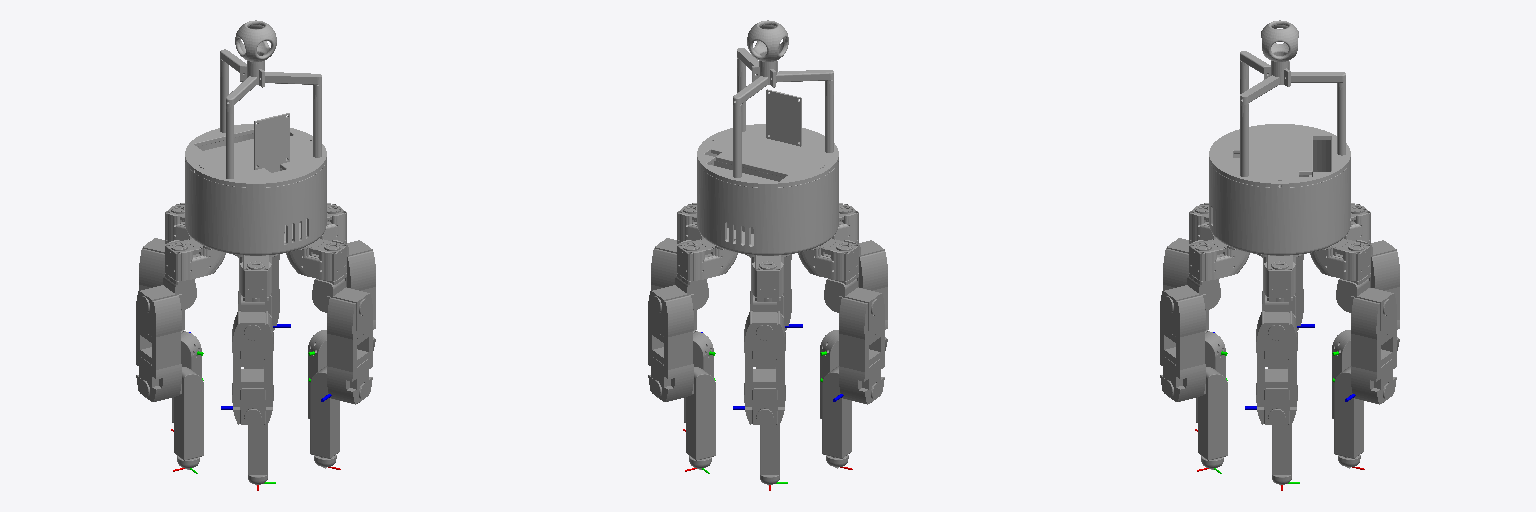
--- Render facts (derived) ---
Views: 3 orthographic renders of the robot side by side, from view 1: azimuth 30°, elevation 25°; view 2: azimuth 150°, elevation 25°; view 3: azimuth 270°, elevation 25°.
Robot: hexa_leg_pod — 32 links, 31 joints (18 continuous, 13 fixed); root link base_link; default pose: every joint at zero.
Visible links, largest first — view 1: body_link, limb5_link4, limb3_link4, limb4_link4, limb3_link6, limb5_link6, limb0_link4, limb2_link4, limb4_link6, motor4, motor3, motor5 (+5 smaller); view 2: body_link, limb3_link4, limb1_link4, limb2_link4, limb1_link6, limb3_link6, limb4_link4, limb0_link4, limb2_link6, motor2, motor1, motor3 (+5 smaller); view 3: body_link, limb1_link4, limb5_link4, limb0_link4, limb5_link6, limb1_link6, limb2_link4, limb4_link4, limb0_link6, motor0, motor5, motor1 (+5 smaller).
Link boxes in pixels (bbox=[...]): body_link: bbox=[167, 20, 344, 295]; limb5_link4: bbox=[327, 287, 372, 404]; limb3_link4: bbox=[136, 285, 181, 401]; limb4_link4: bbox=[232, 310, 273, 424]; limb3_link6: bbox=[174, 367, 203, 468]; limb5_link6: bbox=[308, 366, 339, 466]; limb0_link4: bbox=[345, 240, 375, 350]; limb2_link4: bbox=[139, 238, 184, 332]; limb4_link6: bbox=[221, 406, 267, 484]; motor4: bbox=[243, 255, 268, 301]; motor3: bbox=[165, 238, 202, 284]; motor5: bbox=[309, 238, 346, 284]; body_link: bbox=[679, 20, 856, 295]; limb3_link4: bbox=[839, 287, 884, 404]; limb1_link4: bbox=[648, 285, 693, 401]; limb2_link4: bbox=[744, 310, 785, 424]; limb1_link6: bbox=[686, 367, 715, 468]; limb3_link6: bbox=[820, 366, 851, 466]; limb4_link4: bbox=[857, 240, 887, 350]; limb0_link4: bbox=[651, 238, 696, 332]; limb2_link6: bbox=[733, 406, 779, 484]; motor2: bbox=[755, 255, 780, 301]; motor1: bbox=[677, 238, 714, 284]; motor3: bbox=[821, 238, 858, 284]; body_link: bbox=[1191, 20, 1368, 295]; limb1_link4: bbox=[1351, 288, 1396, 404]; limb5_link4: bbox=[1160, 285, 1205, 401]; limb0_link4: bbox=[1256, 310, 1297, 424]; limb5_link6: bbox=[1198, 367, 1227, 468]; limb1_link6: bbox=[1332, 366, 1363, 466]; limb2_link4: bbox=[1369, 240, 1399, 350]; limb4_link4: bbox=[1163, 238, 1208, 332]; limb0_link6: bbox=[1245, 406, 1291, 484]; motor0: bbox=[1267, 255, 1292, 301]; motor5: bbox=[1189, 238, 1226, 284]; motor1: bbox=[1333, 238, 1370, 284].
Bounding box of the posed robot: 0.287 × 0.2713 × 0.5317 m (x, y, z).
Meshes: 5 distinct files referenced, 25 mesh visuals loaded (5 binary STL).

The robot description file, URDF, robot "hexa_leg_pod":
<?xml version="1.0" ?>
<!-- =================================================================================== -->
<!-- |    This document was autogenerated by xacro from hexa_leg.xacro                 | -->
<!-- |    EDITING THIS FILE BY HAND IS NOT RECOMMENDED                                 | -->
<!-- =================================================================================== -->
<robot name="hexa_leg_pod">
  <material name="silver_default">
    <color rgba="0.700 0.700 0.700 1.000"/>
  </material>
  <material name="steel_satin">
    <color rgba="0.6274509803921569 0.6274509803921569 0.6274509803921569 1.0"/>
  </material>
  <!--bodyの半径[m]-->
  <joint name="body_joint" type="fixed">
    <parent link="base_link"/>
    <child link="body_link"/>
  </joint>
  <link name="base_link"/>
  <!--baselink設定-->
  <link name="body_link">
    <!--body設定-->
    <inertial>
      <origin rpy="0 0 0" xyz="0 0 0"/>
      <mass value="0.870"/>
      <inertia ixx="0.1" ixy="0.0" ixz="0.0" iyy="0.1" iyz="0.0" izz="0.1"/>
    </inertial>
    <visual>
      <origin rpy="0 0 0" xyz="0 0 0"/>
      <geometry>
        <mesh filename="package://dual_leg_controller/model/meshes/base_link.stl" scale="0.001 0.001 0.001"/>
      </geometry>
      <material name="gray">
        <color rgba="0.7 0.7 0.7 1.0"/>
      </material>
    </visual>
    <collision>
      <origin rpy="0 0 0" xyz="0 0 0"/>
      <geometry>
        <mesh filename="package://dual_leg_controller/model/meshes/base_link.stl" scale="0.001 0.001 0.001"/>
      </geometry>
    </collision>
  </link>
  <!-- モーターの設定 -->
  <link name="motor0">
    <!--  物理シミュレーションのための質量特性を定義 -->
    <inertial>
      <!-- 慣性フレームの位置と向き -->
      <origin rpy="0 0 0" xyz="0 0 0"/>
      <!-- 部品の質量（kg単位） -->
      <mass value="0.125"/>
      <!--  慣性テンソル（物体の回転に対する抵抗を定義する行列） -->
      <!-- ixx, iyy, izz - 各軸周りの慣性モーメント -->
      <!-- ixy, iyz, ixz - 慣性乗積（オフ対角成分） -->
      <inertia ixx="0.1" ixy="0.0" ixz="0.0" iyy="0.1" iyz="0.0" izz="0.1"/>
    </inertial>
    <!-- 視覚・表示の設定 -->
    <visual>
      <!-- 表示モデルの位置と向き -->
      <origin rpy="0 0 0" xyz="0 0.005 0"/>
      <!--  形状を定義 -->
      <geometry>
        <mesh filename="package://dual_leg_controller/model/meshes/motor.stl" scale="0.001 0.001 0.001"/>
      </geometry>
      <material name="steel_satin"/>
    </visual>
    <!-- 衝突検出形状 (物理シミュレーション用)の設定 -->
    <collision>
      <!-- 衝突モデルの位置と向き -->
      <origin rpy="0 0 0" xyz="0 0.005 0"/>
      <!--  形状を定義 -->
      <geometry>
        <mesh filename="package://dual_leg_controller/model/meshes/motor.stl" scale="0.001 0.001 0.001"/>
      </geometry>
    </collision>
  </link>
  <!-- coxa_motor と femur_motor をつなぐリンク(leg_coxa)の定義  -->
  <link name="limb0_link2">
    <!--  物理シミュレーションのための質量特性を定義 -->
    <inertial>
      <origin rpy="0 0 0" xyz="0 0 0"/>
      <mass value="0.125"/>
      <inertia ixx="0.1" ixy="0.0" ixz="0.0" iyy="0.1" iyz="0.0" izz="0.1"/>
    </inertial>
    <!-- 視覚・表示の設定 -->
    <visual>
      <origin rpy="0 -1.5707963267948966 0" xyz="0 0 -0.045"/>
      <geometry>
        <mesh filename="package://dual_leg_controller/model/meshes/link1_1.stl" scale="0.001 0.001 0.001"/>
      </geometry>
      <material name="steel_satin"/>
    </visual>
    <!-- 衝突検出形状 (物理シミュレーション用)の設定 -->
    <collision>
      <origin rpy="0 -1.5707963267948966 0" xyz="0 0 -0.045"/>
      <geometry>
        <mesh filename="package://dual_leg_controller/model/meshes/link1_1.stl" scale="0.001 0.001 0.001"/>
      </geometry>
    </collision>
  </link>
  <!-- femur_motor と tibia_motor をつなぐリンク(leg_fumer)の定義  -->
  <link name="limb0_link4">
    <inertial>
      <mass value="0.125"/>
      <inertia ixx="0.1" ixy="0.0" ixz="0.0" iyy="0.1" iyz="0.0" izz="0.1"/>
    </inertial>
    <visual>
      <origin rpy="0 3.141592653589793 -1.5707963267948966" xyz="0.05 -0.055 0"/>
      <geometry>
        <mesh filename="package://dual_leg_controller/model/meshes/link2_1.stl" scale="0.001 0.001 0.001"/>
      </geometry>
      <material name="steel_satin"/>
    </visual>
    <collision>
      <origin rpy="0 3.141592653589793 -1.5707963267948966" xyz="0.05 -0.055 0"/>
      <geometry>
        <mesh filename="package://dual_leg_controller/model/meshes/link2_1.stl" scale="0.001 0.001 0.001"/>
      </geometry>
    </collision>
  </link>
  <link name="limb0_link6">
    <inertial>
      <origin rpy="0 0 0" xyz="0 0 0"/>
      <mass value="0.125"/>
      <inertia ixx="0.1" ixy="0.0" ixz="0.0" iyy="0.1" iyz="0.0" izz="0.1"/>
    </inertial>
    <visual>
      <origin rpy="3.141592653589793 0 3.141592653589793" xyz="0.055 0.038 0"/>
      <geometry>
        <mesh filename="package://dual_leg_controller/model/meshes/link3_1.stl" scale="0.001 0.001 0.001"/>
      </geometry>
      <material name="steel_satin"/>
    </visual>
    <collision>
      <origin rpy="3.141592653589793 0 3.141592653589793" xyz="0.055 0.038 0"/>
      <geometry>
        <mesh filename="package://dual_leg_controller/model/meshes/link3_1.stl" scale="0.001 0.001 0.001"/>
      </geometry>
    </collision>
    <!-- 座標系確認用の軸表示を追加 -->
    <visual name="debug_x_axis">
      <origin rpy="0 1.5707963267948966 0" xyz="0.02 0 0"/>
      <geometry>
        <cylinder length="0.04" radius="0.002"/>
      </geometry>
      <material name="debug_red">
        <color rgba="1.0 0.0 0.0 1.0"/>
      </material>
    </visual>
    <visual name="debug_y_axis">
      <origin rpy="1.5707963267948966 0 0" xyz="0 0.02 0"/>
      <geometry>
        <cylinder length="0.04" radius="0.002"/>
      </geometry>
      <material name="debug_green">
        <color rgba="0.0 1.0 0.0 1.0"/>
      </material>
    </visual>
    <visual name="debug_z_axis">
      <origin rpy="0 0 0" xyz="0 0 0.02"/>
      <geometry>
        <cylinder length="0.04" radius="0.002"/>
      </geometry>
      <material name="debug_blue">
        <color rgba="0.0 0.0 1.0 1.0"/>
      </material>
    </visual>
  </link>
  <!-- 脚先（foot_tip）を示す非常に小さなリンク -->
  <link name="limb0_foot_tip">
    <inertial>
      <origin rpy="0 0 0" xyz="0 0 0"/>
      <mass value="0.0001"/>
      <inertia ixx="0.00001" ixy="0.0" ixz="0.0" iyy="0.00001" iyz="0.0" izz="0.00001"/>
    </inertial>
    <!-- X軸（前方向）- 赤色 -->
    <visual name="x_axis">
      <origin rpy="0 1.5707963267948966 0" xyz="0.01 0 0"/>
      <geometry>
        <cylinder length="0.02" radius="0.001"/>
      </geometry>
      <material name="red">
        <color rgba="1.0 0.0 0.0 1.0"/>
      </material>
    </visual>
    <!-- Y軸（右方向）- 緑色 -->
    <visual name="y_axis">
      <origin rpy="1.5707963267948966 0 0" xyz="0 0.01 0"/>
      <geometry>
        <cylinder length="0.02" radius="0.001"/>
      </geometry>
      <material name="green">
        <color rgba="0.0 1.0 0.0 1.0"/>
      </material>
    </visual>
    <!-- Z軸（上方向）- 青色 -->
    <visual name="z_axis">
      <origin rpy="0 0 0" xyz="0 0 0.01"/>
      <geometry>
        <cylinder length="0.02" radius="0.001"/>
      </geometry>
      <material name="blue">
        <color rgba="0.0 0.0 1.0 1.0"/>
      </material>
    </visual>
    <!-- 座標原点 - 白色 -->
    <visual name="origin">
      <origin rpy="0 0 0" xyz="0 0 0"/>
      <geometry>
        <sphere radius="0.003"/>
      </geometry>
      <material name="white">
        <color rgba="1.0 1.0 1.0 1.0"/>
      </material>
    </visual>
  </link>
  <!--joint の定義-->
  <!-- base と motor を固定するジョイント -->
  <joint name="body_motor_fixedjoint_limb0" type="fixed">
    <origin rpy="0 3.141592653589793 4.71238898038469" xyz="0.095 0.0 -0.02"/>
    <parent link="body_link"/>
    <child link="motor0"/>
  </joint>
  <!-- motor と leg_coxa　をジョイント-->
  <joint name="limb0_joint1" type="continuous">
    <origin rpy="0 0 3.141592653589793" xyz="0 0 0.05"/>
    <parent link="motor0"/>
    <child link="limb0_link2"/>
    <axis xyz="0.0 0.0 1.0"/>
  </joint>
  <!-- leg_coxa と leg_fumer　をジョイント-->
  <joint name="limb0_joint2" type="continuous">
    <origin rpy="0 1.5707963267948966 0" xyz="0.0 -0.0145 0"/>
    <parent link="limb0_link2"/>
    <child link="limb0_link4"/>
    <axis xyz="0.0 -1.0 0.0"/>
  </joint>
  <!-- leg_fumer と leg_tibia　をジョイント-->
  <joint name="limb0_joint3" type="continuous">
    <origin rpy="0 0 0" xyz="-0.105 0.0 0"/>
    <parent link="limb0_link4"/>
    <child link="limb0_link6"/>
    <axis xyz="0.0 1.0 0.0"/>
  </joint>
  <!-- tibiaリンクと脚先を接続する固定ジョイント -->
  <joint name="limb0_foot_joint" type="fixed">
    <!-- tibiaのSTLモデルの先端までの距離を設定 -->
    <origin rpy="-1.5707963267948966 0 -1.5707963267948966" xyz="-0.103 0.0205 -0.00205"/>
    <parent link="limb0_link6"/>
    <child link="limb0_foot_tip"/>
  </joint>
  <!-- トランスミッション -->
  <transmission name="trans0_1">
    <type>transmission_interface/SimpleTransmission</type>
    <joint name="limb0_joint1">
      <hardwareInterface>hardware_interface/EffortJointInterface</hardwareInterface>
    </joint>
    <actuator name="motor0_1">
      <hardwareInterface>hardware_interface/EffortJointInterface</hardwareInterface>
      <mechanicalReduction>1</mechanicalReduction>
    </actuator>
  </transmission>
  <transmission name="trans0_2">
    <type>transmission_interface/SimpleTransmission</type>
    <joint name="limb0_joint2">
      <hardwareInterface>hardware_interface/EffortJointInterface</hardwareInterface>
    </joint>
    <actuator name="motor0_2">
      <hardwareInterface>hardware_interface/EffortJointInterface</hardwareInterface>
      <mechanicalReduction>1</mechanicalReduction>
    </actuator>
  </transmission>
  <transmission name="trans0_3">
    <type>transmission_interface/SimpleTransmission</type>
    <joint name="limb0_joint3">
      <hardwareInterface>hardware_interface/EffortJointInterface</hardwareInterface>
    </joint>
    <actuator name="motor0_3">
      <hardwareInterface>hardware_interface/EffortJointInterface</hardwareInterface>
      <mechanicalReduction>1</mechanicalReduction>
    </actuator>
  </transmission>
  <!-- モーターの設定 -->
  <link name="motor1">
    <!--  物理シミュレーションのための質量特性を定義 -->
    <inertial>
      <!-- 慣性フレームの位置と向き -->
      <origin rpy="0 0 0" xyz="0 0 0"/>
      <!-- 部品の質量（kg単位） -->
      <mass value="0.125"/>
      <!--  慣性テンソル（物体の回転に対する抵抗を定義する行列） -->
      <!-- ixx, iyy, izz - 各軸周りの慣性モーメント -->
      <!-- ixy, iyz, ixz - 慣性乗積（オフ対角成分） -->
      <inertia ixx="0.1" ixy="0.0" ixz="0.0" iyy="0.1" iyz="0.0" izz="0.1"/>
    </inertial>
    <!-- 視覚・表示の設定 -->
    <visual>
      <!-- 表示モデルの位置と向き -->
      <origin rpy="0 0 0" xyz="0 0.005 0"/>
      <!--  形状を定義 -->
      <geometry>
        <mesh filename="package://dual_leg_controller/model/meshes/motor.stl" scale="0.001 0.001 0.001"/>
      </geometry>
      <material name="steel_satin"/>
    </visual>
    <!-- 衝突検出形状 (物理シミュレーション用)の設定 -->
    <collision>
      <!-- 衝突モデルの位置と向き -->
      <origin rpy="0 0 0" xyz="0 0.005 0"/>
      <!--  形状を定義 -->
      <geometry>
        <mesh filename="package://dual_leg_controller/model/meshes/motor.stl" scale="0.001 0.001 0.001"/>
      </geometry>
    </collision>
  </link>
  <!-- coxa_motor と femur_motor をつなぐリンク(leg_coxa)の定義  -->
  <link name="limb1_link2">
    <!--  物理シミュレーションのための質量特性を定義 -->
    <inertial>
      <origin rpy="0 0 0" xyz="0 0 0"/>
      <mass value="0.125"/>
      <inertia ixx="0.1" ixy="0.0" ixz="0.0" iyy="0.1" iyz="0.0" izz="0.1"/>
    </inertial>
    <!-- 視覚・表示の設定 -->
    <visual>
      <origin rpy="0 -1.5707963267948966 0" xyz="0 0 -0.045"/>
      <geometry>
        <mesh filename="package://dual_leg_controller/model/meshes/link1_1.stl" scale="0.001 0.001 0.001"/>
      </geometry>
      <material name="steel_satin"/>
    </visual>
    <!-- 衝突検出形状 (物理シミュレーション用)の設定 -->
    <collision>
      <origin rpy="0 -1.5707963267948966 0" xyz="0 0 -0.045"/>
      <geometry>
        <mesh filename="package://dual_leg_controller/model/meshes/link1_1.stl" scale="0.001 0.001 0.001"/>
      </geometry>
    </collision>
  </link>
  <!-- femur_motor と tibia_motor をつなぐリンク(leg_fumer)の定義  -->
  <link name="limb1_link4">
    <inertial>
      <mass value="0.125"/>
      <inertia ixx="0.1" ixy="0.0" ixz="0.0" iyy="0.1" iyz="0.0" izz="0.1"/>
    </inertial>
    <visual>
      <origin rpy="0 3.141592653589793 -1.5707963267948966" xyz="0.05 -0.055 0"/>
      <geometry>
        <mesh filename="package://dual_leg_controller/model/meshes/link2_1.stl" scale="0.001 0.001 0.001"/>
      </geometry>
      <material name="steel_satin"/>
    </visual>
    <collision>
      <origin rpy="0 3.141592653589793 -1.5707963267948966" xyz="0.05 -0.055 0"/>
      <geometry>
        <mesh filename="package://dual_leg_controller/model/meshes/link2_1.stl" scale="0.001 0.001 0.001"/>
      </geometry>
    </collision>
  </link>
  <link name="limb1_link6">
    <inertial>
      <origin rpy="0 0 0" xyz="0 0 0"/>
      <mass value="0.125"/>
      <inertia ixx="0.1" ixy="0.0" ixz="0.0" iyy="0.1" iyz="0.0" izz="0.1"/>
    </inertial>
    <visual>
      <origin rpy="3.141592653589793 0 3.141592653589793" xyz="0.055 0.038 0"/>
      <geometry>
        <mesh filename="package://dual_leg_controller/model/meshes/link3_1.stl" scale="0.001 0.001 0.001"/>
      </geometry>
      <material name="steel_satin"/>
    </visual>
    <collision>
      <origin rpy="3.141592653589793 0 3.141592653589793" xyz="0.055 0.038 0"/>
      <geometry>
        <mesh filename="package://dual_leg_controller/model/meshes/link3_1.stl" scale="0.001 0.001 0.001"/>
      </geometry>
    </collision>
    <!-- 座標系確認用の軸表示を追加 -->
    <visual name="debug_x_axis">
      <origin rpy="0 1.5707963267948966 0" xyz="0.02 0 0"/>
      <geometry>
        <cylinder length="0.04" radius="0.002"/>
      </geometry>
      <material name="debug_red">
        <color rgba="1.0 0.0 0.0 1.0"/>
      </material>
    </visual>
    <visual name="debug_y_axis">
      <origin rpy="1.5707963267948966 0 0" xyz="0 0.02 0"/>
      <geometry>
        <cylinder length="0.04" radius="0.002"/>
      </geometry>
      <material name="debug_green">
        <color rgba="0.0 1.0 0.0 1.0"/>
      </material>
    </visual>
    <visual name="debug_z_axis">
      <origin rpy="0 0 0" xyz="0 0 0.02"/>
      <geometry>
        <cylinder length="0.04" radius="0.002"/>
      </geometry>
      <material name="debug_blue">
        <color rgba="0.0 0.0 1.0 1.0"/>
      </material>
    </visual>
  </link>
  <!-- 脚先（foot_tip）を示す非常に小さなリンク -->
  <link name="limb1_foot_tip">
    <inertial>
      <origin rpy="0 0 0" xyz="0 0 0"/>
      <mass value="0.0001"/>
      <inertia ixx="0.00001" ixy="0.0" ixz="0.0" iyy="0.00001" iyz="0.0" izz="0.00001"/>
    </inertial>
    <!-- X軸（前方向）- 赤色 -->
    <visual name="x_axis">
      <origin rpy="0 1.5707963267948966 0" xyz="0.01 0 0"/>
      <geometry>
        <cylinder length="0.02" radius="0.001"/>
      </geometry>
      <material name="red">
        <color rgba="1.0 0.0 0.0 1.0"/>
      </material>
    </visual>
    <!-- Y軸（右方向）- 緑色 -->
    <visual name="y_axis">
      <origin rpy="1.5707963267948966 0 0" xyz="0 0.01 0"/>
      <geometry>
        <cylinder length="0.02" radius="0.001"/>
      </geometry>
      <material name="green">
        <color rgba="0.0 1.0 0.0 1.0"/>
      </material>
    </visual>
    <!-- Z軸（上方向）- 青色 -->
    <visual name="z_axis">
      <origin rpy="0 0 0" xyz="0 0 0.01"/>
      <geometry>
        <cylinder length="0.02" radius="0.001"/>
      </geometry>
      <material name="blue">
        <color rgba="0.0 0.0 1.0 1.0"/>
      </material>
    </visual>
    <!-- 座標原点 - 白色 -->
    <visual name="origin">
      <origin rpy="0 0 0" xyz="0 0 0"/>
      <geometry>
        <sphere radius="0.003"/>
      </geometry>
      <material name="white">
        <color rgba="1.0 1.0 1.0 1.0"/>
      </material>
    </visual>
  </link>
  <!--joint の定義-->
  <!-- base と motor を固定するジョイント -->
  <joint name="body_motor_fixedjoint_limb1" type="fixed">
    <origin rpy="0 3.141592653589793 5.759586531581287" xyz="0.047500000000000014 0.08227241335952167 -0.02"/>
    <parent link="body_link"/>
    <child link="motor1"/>
  </joint>
  <!-- motor と leg_coxa　をジョイント-->
  <joint name="limb1_joint1" type="continuous">
    <origin rpy="0 0 3.141592653589793" xyz="0 0 0.05"/>
    <parent link="motor1"/>
    <child link="limb1_link2"/>
    <axis xyz="0.0 0.0 1.0"/>
  </joint>
  <!-- leg_coxa と leg_fumer　をジョイント-->
  <joint name="limb1_joint2" type="continuous">
    <origin rpy="0 1.5707963267948966 0" xyz="0.0 -0.0145 0"/>
    <parent link="limb1_link2"/>
    <child link="limb1_link4"/>
    <axis xyz="0.0 -1.0 0.0"/>
  </joint>
  <!-- leg_fumer と leg_tibia　をジョイント-->
  <joint name="limb1_joint3" type="continuous">
    <origin rpy="0 0 0" xyz="-0.105 0.0 0"/>
    <parent link="limb1_link4"/>
    <child link="limb1_link6"/>
    <axis xyz="0.0 1.0 0.0"/>
  </joint>
  <!-- tibiaリンクと脚先を接続する固定ジョイント -->
  <joint name="limb1_foot_joint" type="fixed">
    <!-- tibiaのSTLモデルの先端までの距離を設定 -->
    <origin rpy="-1.5707963267948966 0 -1.5707963267948966" xyz="-0.103 0.0205 -0.00205"/>
    <parent link="limb1_link6"/>
    <child link="limb1_foot_tip"/>
  </joint>
  <!-- トランスミッション -->
  <transmission name="trans1_1">
    <type>transmission_interface/SimpleTransmission</type>
    <joint name="limb1_joint1">
      <hardwareInterface>hardware_interface/EffortJointInterface</hardwareInterface>
    </joint>
    <actuator name="motor1_1">
      <hardwareInterface>hardware_interface/EffortJointInterface</hardwareInterface>
      <mechanicalReduction>1</mechanicalReduction>
    </actuator>
  </transmission>
  <transmission name="trans1_2">
    <type>transmission_interface/SimpleTransmission</type>
    <joint name="limb1_joint2">
      <hardwareInterface>hardware_interface/EffortJointInterface</hardwareInterface>
    </joint>
    <actuator name="motor1_2">
      <hardwareInterface>hardware_interface/EffortJointInterface</hardwareInterface>
      <mechanicalReduction>1</mechanicalReduction>
    </actuator>
  </transmission>
  <transmission name="trans1_3">
    <type>transmission_interface/SimpleTransmission</type>
    <joint name="limb1_joint3">
      <hardwareInterface>hardware_interface/EffortJointInterface</hardwareInterface>
    </joint>
    <actuator name="motor1_3">
      <hardwareInterface>hardware_interface/EffortJointInterface</hardwareInterface>
      <mechanicalReduction>1</mechanicalReduction>
    </actuator>
  </transmission>
  <!-- モーターの設定 -->
  <link name="motor2">
    <!--  物理シミュレーションのための質量特性を定義 -->
    <inertial>
      <!-- 慣性フレームの位置と向き -->
      <origin rpy="0 0 0" xyz="0 0 0"/>
      <!-- 部品の質量（kg単位） -->
      <mass value="0.125"/>
      <!--  慣性テンソル（物体の回転に対する抵抗を定義する行列） -->
      <!-- ixx, iyy, izz - 各軸周りの慣性モーメント -->
      <!-- ixy, iyz, ixz - 慣性乗積（オフ対角成分） -->
      <inertia ixx="0.1" ixy="0.0" ixz="0.0" iyy="0.1" iyz="0.0" izz="0.1"/>
    </inertial>
    <!-- 視覚・表示の設定 -->
    <visual>
      <!-- 表示モデルの位置と向き -->
      <origin rpy="0 0 0" xyz="0 0.005 0"/>
      <!--  形状を定義 -->
      <geometry>
        <mesh filename="package://dual_leg_controller/model/meshes/motor.stl" scale="0.001 0.001 0.001"/>
      </geometry>
      <material name="steel_satin"/>
    </visual>
    <!-- 衝突検出形状 (物理シミュレーション用)の設定 -->
    <collision>
      <!-- 衝突モデルの位置と向き -->
      <origin rpy="0 0 0" xyz="0 0.005 0"/>
      <!--  形状を定義 -->
      <geometry>
        <mesh filename="package://dual_leg_controller/model/meshes/motor.stl" scale="0.001 0.001 0.001"/>
      </geometry>
    </collision>
  </link>
  <!-- coxa_motor と femur_motor をつなぐリンク(leg_coxa)の定義  -->
  <link name="limb2_link2">
    <!--  物理シミュレーションのための質量特性を定義 -->
    <inertial>
      <origin rpy="0 0 0" xyz="0 0 0"/>
      <mass value="0.125"/>
      <inertia ixx="0.1" ixy="0.0" ixz="0.0" iyy="0.1" iyz="0.0" izz="0.1"/>
    </inertial>
    <!-- 視覚・表示の設定 -->
    <visual>
      <origin rpy="0 -1.5707963267948966 0" xyz="0 0 -0.045"/>
      <geometry>
        <mesh filename="package://dual_leg_controller/model/meshes/link1_1.stl" scale="0.001 0.001 0.001"/>
      </geometry>
      <material name="steel_satin"/>
    </visual>
    <!-- 衝突検出形状 (物理シミュレーション用)の設定 -->
    <collision>
      <origin rpy="0 -1.5707963267948966 0" xyz="0 0 -0.045"/>
      <geometry>
        <mesh filename="package://dual_leg_controller/model/meshes/link1_1.stl" scale="0.001 0.001 0.001"/>
      </geometry>
    </collision>
  </link>
  <!-- femur_motor と tibia_motor をつなぐリンク(leg_fumer)の定義  -->
  <link name="limb2_link4">
    <inertial>
      <mass value="0.125"/>
      <inertia ixx="0.1" ixy="0.0" ixz="0.0" iyy="0.1" iyz="0.0" izz="0.1"/>
    </inertial>
    <visual>
      <origin rpy="0 3.141592653589793 -1.5707963267948966" xyz="0.05 -0.055 0"/>
      <geometry>
        <mesh filename="package://dual_leg_controller/model/meshes/link2_1.stl" scale="0.001 0.001 0.001"/>
      </geometry>
      <material name="steel_satin"/>
    </visual>
    <collision>
      <origin rpy="0 3.141592653589793 -1.5707963267948966" xyz="0.05 -0.055 0"/>
      <geometry>
        <mesh filename="package://dual_leg_controller/model/meshes/link2_1.stl" scale="0.001 0.001 0.001"/>
      </geometry>
    </collision>
  </link>
  <link name="limb2_link6">
    <inertial>
      <origin rpy="0 0 0" xyz="0 0 0"/>
      <mass value="0.125"/>
      <inertia ixx="0.1" ixy="0.0" ixz="0.0" iyy="0.1" iyz="0.0" izz="0.1"/>
    </inertial>
    <visual>
      <origin rpy="3.141592653589793 0 3.141592653589793" xyz="0.055 0.038 0"/>
      <geometry>
        <mesh filename="package://dual_leg_controller/model/meshes/link3_1.stl" scale="0.001 0.001 0.001"/>
      </geometry>
      <material name="steel_satin"/>
    </visual>
    <collision>
      <origin rpy="3.141592653589793 0 3.141592653589793" xyz="0.055 0.038 0"/>
      <geometry>
        <mesh filename="package://dual_leg_controller/model/meshes/link3_1.stl" scale="0.001 0.001 0.001"/>
      </geometry>
    </collision>
    <!-- 座標系確認用の軸表示を追加 -->
    <visual name="debug_x_axis">
      <origin rpy="0 1.5707963267948966 0" xyz="0.02 0 0"/>
      <geometry>
        <cylinder length="0.04" radius="0.002"/>
      </geometry>
      <material name="debug_red">
        <color rgba="1.0 0.0 0.0 1.0"/>
      </material>
    </visual>
    <visual name="debug_y_axis">
      <origin rpy="1.5707963267948966 0 0" xyz="0 0.02 0"/>
      <geometry>
        <cylinder length="0.04" radius="0.002"/>
      </geometry>
      <material name="debug_green">
        <color rgba="0.0 1.0 0.0 1.0"/>
      </material>
    </visual>
    <visual name="debug_z_axis">
      <origin rpy="0 0 0" xyz="0 0 0.02"/>
      <geometry>
        <cylinder length="0.04" radius="0.002"/>
      </geometry>
      <material name="debug_blue">
        <color rgba="0.0 0.0 1.0 1.0"/>
      </material>
    </visual>
  </link>
  <!-- 脚先（foot_tip）を示す非常に小さなリンク -->
  <link name="limb2_foot_tip">
    <inertial>
      <origin rpy="0 0 0" xyz="0 0 0"/>
      <mass value="0.0001"/>
      <inertia ixx="0.00001" ixy="0.0" ixz="0.0" iyy="0.00001" iyz="0.0" izz="0.00001"/>
    </inertial>
    <!-- X軸（前方向）- 赤色 -->
    <visual name="x_axis">
      <origin rpy="0 1.5707963267948966 0" xyz="0.01 0 0"/>
      <geometry>
        <cylinder length="0.02" radius="0.001"/>
      </geometry>
      <material name="red">
        <color rgba="1.0 0.0 0.0 1.0"/>
      </material>
    </visual>
    <!-- Y軸（右方向）- 緑色 -->
    <visual name="y_axis">
      <origin rpy="1.5707963267948966 0 0" xyz="0 0.01 0"/>
      <geometry>
        <cylinder length="0.02" radius="0.001"/>
      </geometry>
      <material name="green">
        <color rgba="0.0 1.0 0.0 1.0"/>
      </material>
    </visual>
    <!-- Z軸（上方向）- 青色 -->
    <visual name="z_axis">
      <origin rpy="0 0 0" xyz="0 0 0.01"/>
      <geometry>
        <cylinder length="0.02" radius="0.001"/>
      </geometry>
      <material name="blue">
        <color rgba="0.0 0.0 1.0 1.0"/>
      </material>
    </visual>
    <!-- 座標原点 - 白色 -->
    <visual name="origin">
      <origin rpy="0 0 0" xyz="0 0 0"/>
      <geometry>
        <sphere radius="0.003"/>
      </geometry>
      <material name="white">
        <color rgba="1.0 1.0 1.0 1.0"/>
      </material>
    </visual>
  </link>
  <!--joint の定義-->
  <!-- base と motor を固定するジョイント -->
  <joint name="body_motor_fixedjoint_limb2" type="fixed">
    <origin rpy="0 3.141592653589793 6.806784082777885" xyz="-0.04749999999999998 0.08227241335952168 -0.02"/>
    <parent link="body_link"/>
    <child link="motor2"/>
  </joint>
  <!-- motor と leg_coxa　をジョイント-->
  <joint name="limb2_joint1" type="continuous">
    <origin rpy="0 0 3.141592653589793" xyz="0 0 0.05"/>
    <parent link="motor2"/>
    <child link="limb2_link2"/>
    <axis xyz="0.0 0.0 1.0"/>
  </joint>
  <!-- leg_coxa と leg_fumer　をジョイント-->
  <joint name="limb2_joint2" type="continuous">
    <origin rpy="0 1.5707963267948966 0" xyz="0.0 -0.0145 0"/>
    <parent link="limb2_link2"/>
    <child link="limb2_link4"/>
    <axis xyz="0.0 -1.0 0.0"/>
  </joint>
  <!-- leg_fumer と leg_tibia　をジョイント-->
  <joint name="limb2_joint3" type="continuous">
    <origin rpy="0 0 0" xyz="-0.105 0.0 0"/>
    <parent link="limb2_link4"/>
    <child link="limb2_link6"/>
    <axis xyz="0.0 1.0 0.0"/>
  </joint>
  <!-- tibiaリンクと脚先を接続する固定ジョイント -->
  <joint name="limb2_foot_joint" type="fixed">
    <!-- tibiaのSTLモデルの先端までの距離を設定 -->
    <origin rpy="-1.5707963267948966 0 -1.5707963267948966" xyz="-0.103 0.0205 -0.00205"/>
    <parent link="limb2_link6"/>
    <child link="limb2_foot_tip"/>
  </joint>
  <!-- トランスミッション -->
  <transmission name="trans2_1">
    <type>transmission_interface/SimpleTransmission</type>
    <joint name="limb2_joint1">
      <hardwareInterface>hardware_interface/EffortJointInterface</hardwareInterface>
    </joint>
    <actuator name="motor2_1">
      <hardwareInterface>hardware_interface/EffortJointInterface</hardwareInterface>
      <mechanicalReduction>1</mechanicalReduction>
    </actuator>
  </transmission>
  <transmission name="trans2_2">
    <type>transmission_interface/SimpleTransmission</type>
    <joint name="limb2_joint2">
      <hardwareInterface>hardware_interface/EffortJointInterface</hardwareInterface>
    </joint>
    <actuator name="motor2_2">
      <hardwareInterface>hardware_interface/EffortJointInterface</hardwareInterface>
      <mechanicalReduction>1</mechanicalReduction>
    </actuator>
  </transmission>
  <transmission name="trans2_3">
    <type>transmission_interface/SimpleTransmission</type>
    <joint name="limb2_joint3">
      <hardwareInterface>hardware_interface/EffortJointInterface</hardwareInterface>
    </joint>
    <actuator name="motor2_3">
      <hardwareInterface>hardware_interface/EffortJointInterface</hardwareInterface>
      <mechanicalReduction>1</mechanicalReduction>
    </actuator>
  </transmission>
  <!-- モーターの設定 -->
  <link name="motor3">
    <!--  物理シミュレーションのための質量特性を定義 -->
    <inertial>
      <!-- 慣性フレームの位置と向き -->
      <origin rpy="0 0 0" xyz="0 0 0"/>
      <!-- 部品の質量（kg単位） -->
      <mass value="0.125"/>
      <!--  慣性テンソル（物体の回転に対する抵抗を定義する行列） -->
      <!-- ixx, iyy, izz - 各軸周りの慣性モーメント -->
      <!-- ixy, iyz, ixz - 慣性乗積（オフ対角成分） -->
      <inertia ixx="0.1" ixy="0.0" ixz="0.0" iyy="0.1" iyz="0.0" izz="0.1"/>
    </inertial>
    <!-- 視覚・表示の設定 -->
    <visual>
      <!-- 表示モデルの位置と向き -->
      <origin rpy="0 0 0" xyz="0 0.005 0"/>
      <!--  形状を定義 -->
      <geometry>
        <mesh filename="package://dual_leg_controller/model/meshes/motor.stl" scale="0.001 0.001 0.001"/>
      </geometry>
      <material name="steel_satin"/>
    </visual>
    <!-- 衝突検出形状 (物理シミュレーション用)の設定 -->
    <collision>
      <!-- 衝突モデルの位置と向き -->
      <origin rpy="0 0 0" xyz="0 0.005 0"/>
      <!--  形状を定義 -->
      <geometry>
        <mesh filename="package://dual_leg_controller/model/meshes/motor.stl" scale="0.001 0.001 0.001"/>
      </geometry>
    </collision>
  </link>
  <!-- coxa_motor と femur_motor をつなぐリンク(leg_coxa)の定義  -->
  <link name="limb3_link2">
    <!--  物理シミュレーションのための質量特性を定義 -->
    <inertial>
      <origin rpy="0 0 0" xyz="0 0 0"/>
      <mass value="0.125"/>
      <inertia ixx="0.1" ixy="0.0" ixz="0.0" iyy="0.1" iyz="0.0" izz="0.1"/>
    </inertial>
    <!-- 視覚・表示の設定 -->
    <visual>
      <origin rpy="0 -1.5707963267948966 0" xyz="0 0 -0.045"/>
      <geometry>
        <mesh filename="package://dual_leg_controller/model/meshes/link1_1.stl" scale="0.001 0.001 0.001"/>
      </geometry>
      <material name="steel_satin"/>
    </visual>
    <!-- 衝突検出形状 (物理シミュレーション用)の設定 -->
    <collision>
      <origin rpy="0 -1.5707963267948966 0" xyz="0 0 -0.045"/>
      <geometry>
        <mesh filename="package://dual_leg_controller/model/meshes/link1_1.stl" scale="0.001 0.001 0.001"/>
      </geometry>
    </collision>
  </link>
  <!-- femur_motor と tibia_motor をつなぐリンク(leg_fumer)の定義  -->
  <link name="limb3_link4">
    <inertial>
      <mass value="0.125"/>
      <inertia ixx="0.1" ixy="0.0" ixz="0.0" iyy="0.1" iyz="0.0" izz="0.1"/>
    </inertial>
    <visual>
      <origin rpy="0 3.141592653589793 -1.5707963267948966" xyz="0.05 -0.055 0"/>
      <geometry>
        <mesh filename="package://dual_leg_controller/model/meshes/link2_1.stl" scale="0.001 0.001 0.001"/>
      </geometry>
      <material name="steel_satin"/>
    </visual>
    <collision>
      <origin rpy="0 3.141592653589793 -1.5707963267948966" xyz="0.05 -0.055 0"/>
      <geometry>
        <mesh filename="package://dual_leg_controller/model/meshes/link2_1.stl" scale="0.001 0.001 0.001"/>
      </geometry>
    </collision>
  </link>
  <link name="limb3_link6">
    <inertial>
      <origin rpy="0 0 0" xyz="0 0 0"/>
      <mass value="0.125"/>
      <inertia ixx="0.1" ixy="0.0" ixz="0.0" iyy="0.1" iyz="0.0" izz="0.1"/>
    </inertial>
    <visual>
      <origin rpy="3.141592653589793 0 3.141592653589793" xyz="0.055 0.038 0"/>
      <geometry>
        <mesh filename="package://dual_leg_controller/model/meshes/link3_1.stl" scale="0.001 0.001 0.001"/>
      </geometry>
      <material name="steel_satin"/>
    </visual>
    <collision>
      <origin rpy="3.141592653589793 0 3.141592653589793" xyz="0.055 0.038 0"/>
      <geometry>
        <mesh filename="package://dual_leg_controller/model/meshes/link3_1.stl" scale="0.001 0.001 0.001"/>
      </geometry>
    </collision>
    <!-- 座標系確認用の軸表示を追加 -->
    <visual name="debug_x_axis">
      <origin rpy="0 1.5707963267948966 0" xyz="0.02 0 0"/>
      <geometry>
        <cylinder length="0.04" radius="0.002"/>
      </geometry>
      <material name="debug_red">
        <color rgba="1.0 0.0 0.0 1.0"/>
      </material>
    </visual>
    <visual name="debug_y_axis">
      <origin rpy="1.5707963267948966 0 0" xyz="0 0.02 0"/>
      <geometry>
        <cylinder length="0.04" radius="0.002"/>
      </geometry>
      <material name="debug_green">
        <color rgba="0.0 1.0 0.0 1.0"/>
      </material>
    </visual>
    <visual name="debug_z_axis">
      <origin rpy="0 0 0" xyz="0 0 0.02"/>
      <geometry>
        <cylinder length="0.04" radius="0.002"/>
      </geometry>
      <material name="debug_blue">
        <color rgba="0.0 0.0 1.0 1.0"/>
      </material>
    </visual>
  </link>
  <!-- 脚先（foot_tip）を示す非常に小さなリンク -->
  <link name="limb3_foot_tip">
    <inertial>
      <origin rpy="0 0 0" xyz="0 0 0"/>
      <mass value="0.0001"/>
      <inertia ixx="0.00001" ixy="0.0" ixz="0.0" iyy="0.00001" iyz="0.0" izz="0.00001"/>
    </inertial>
    <!-- X軸（前方向）- 赤色 -->
    <visual name="x_axis">
      <origin rpy="0 1.5707963267948966 0" xyz="0.01 0 0"/>
      <geometry>
        <cylinder length="0.02" radius="0.001"/>
      </geometry>
      <material name="red">
        <color rgba="1.0 0.0 0.0 1.0"/>
      </material>
    </visual>
    <!-- Y軸（右方向）- 緑色 -->
    <visual name="y_axis">
      <origin rpy="1.5707963267948966 0 0" xyz="0 0.01 0"/>
      <geometry>
        <cylinder length="0.02" radius="0.001"/>
      </geometry>
      <material name="green">
        <color rgba="0.0 1.0 0.0 1.0"/>
      </material>
    </visual>
    <!-- Z軸（上方向）- 青色 -->
    <visual name="z_axis">
      <origin rpy="0 0 0" xyz="0 0 0.01"/>
      <geometry>
        <cylinder length="0.02" radius="0.001"/>
      </geometry>
      <material name="blue">
        <color rgba="0.0 0.0 1.0 1.0"/>
      </material>
    </visual>
    <!-- 座標原点 - 白色 -->
    <visual name="origin">
      <origin rpy="0 0 0" xyz="0 0 0"/>
      <geometry>
        <sphere radius="0.003"/>
      </geometry>
      <material name="white">
        <color rgba="1.0 1.0 1.0 1.0"/>
      </material>
    </visual>
  </link>
  <!--joint の定義-->
  <!-- base と motor を固定するジョイント -->
  <joint name="body_motor_fixedjoint_limb3" type="fixed">
    <origin rpy="0 3.141592653589793 7.853981633974483" xyz="-0.095 1.1634144591899856e-17 -0.02"/>
    <parent link="body_link"/>
    <child link="motor3"/>
  </joint>
  <!-- motor と leg_coxa　をジョイント-->
  <joint name="limb3_joint1" type="continuous">
    <origin rpy="0 0 3.141592653589793" xyz="0 0 0.05"/>
    <parent link="motor3"/>
    <child link="limb3_link2"/>
    <axis xyz="0.0 0.0 1.0"/>
  </joint>
  <!-- leg_coxa と leg_fumer　をジョイント-->
  <joint name="limb3_joint2" type="continuous">
    <origin rpy="0 1.5707963267948966 0" xyz="0.0 -0.0145 0"/>
    <parent link="limb3_link2"/>
    <child link="limb3_link4"/>
    <axis xyz="0.0 -1.0 0.0"/>
  </joint>
  <!-- leg_fumer と leg_tibia　をジョイント-->
  <joint name="limb3_joint3" type="continuous">
    <origin rpy="0 0 0" xyz="-0.105 0.0 0"/>
    <parent link="limb3_link4"/>
    <child link="limb3_link6"/>
    <axis xyz="0.0 1.0 0.0"/>
  </joint>
  <!-- tibiaリンクと脚先を接続する固定ジョイント -->
  <joint name="limb3_foot_joint" type="fixed">
    <!-- tibiaのSTLモデルの先端までの距離を設定 -->
    <origin rpy="-1.5707963267948966 0 -1.5707963267948966" xyz="-0.103 0.0205 -0.00205"/>
    <parent link="limb3_link6"/>
    <child link="limb3_foot_tip"/>
  </joint>
  <!-- トランスミッション -->
  <transmission name="trans3_1">
    <type>transmission_interface/SimpleTransmission</type>
    <joint name="limb3_joint1">
      <hardwareInterface>hardware_interface/EffortJointInterface</hardwareInterface>
    </joint>
    <actuator name="motor3_1">
      <hardwareInterface>hardware_interface/EffortJointInterface</hardwareInterface>
      <mechanicalReduction>1</mechanicalReduction>
    </actuator>
  </transmission>
  <transmission name="trans3_2">
    <type>transmission_interface/SimpleTransmission</type>
    <joint name="limb3_joint2">
      <hardwareInterface>hardware_interface/EffortJointInterface</hardwareInterface>
    </joint>
    <actuator name="motor3_2">
      <hardwareInterface>hardware_interface/EffortJointInterface</hardwareInterface>
      <mechanicalReduction>1</mechanicalReduction>
    </actuator>
  </transmission>
  <transmission name="trans3_3">
    <type>transmission_interface/SimpleTransmission</type>
    <joint name="limb3_joint3">
      <hardwareInterface>hardware_interface/EffortJointInterface</hardwareInterface>
    </joint>
    <actuator name="motor3_3">
      <hardwareInterface>hardware_interface/EffortJointInterface</hardwareInterface>
      <mechanicalReduction>1</mechanicalReduction>
    </actuator>
  </transmission>
  <!-- モーターの設定 -->
  <link name="motor4">
    <!--  物理シミュレーションのための質量特性を定義 -->
    <inertial>
      <!-- 慣性フレームの位置と向き -->
      <origin rpy="0 0 0" xyz="0 0 0"/>
      <!-- 部品の質量（kg単位） -->
      <mass value="0.125"/>
      <!--  慣性テンソル（物体の回転に対する抵抗を定義する行列） -->
      <!-- ixx, iyy, izz - 各軸周りの慣性モーメント -->
      <!-- ixy, iyz, ixz - 慣性乗積（オフ対角成分） -->
      <inertia ixx="0.1" ixy="0.0" ixz="0.0" iyy="0.1" iyz="0.0" izz="0.1"/>
    </inertial>
    <!-- 視覚・表示の設定 -->
    <visual>
      <!-- 表示モデルの位置と向き -->
      <origin rpy="0 0 0" xyz="0 0.005 0"/>
      <!--  形状を定義 -->
      <geometry>
        <mesh filename="package://dual_leg_controller/model/meshes/motor.stl" scale="0.001 0.001 0.001"/>
      </geometry>
      <material name="steel_satin"/>
    </visual>
    <!-- 衝突検出形状 (物理シミュレーション用)の設定 -->
    <collision>
      <!-- 衝突モデルの位置と向き -->
      <origin rpy="0 0 0" xyz="0 0.005 0"/>
      <!--  形状を定義 -->
      <geometry>
        <mesh filename="package://dual_leg_controller/model/meshes/motor.stl" scale="0.001 0.001 0.001"/>
      </geometry>
    </collision>
  </link>
  <!-- coxa_motor と femur_motor をつなぐリンク(leg_coxa)の定義  -->
  <link name="limb4_link2">
    <!--  物理シミュレーションのための質量特性を定義 -->
    <inertial>
      <origin rpy="0 0 0" xyz="0 0 0"/>
      <mass value="0.125"/>
      <inertia ixx="0.1" ixy="0.0" ixz="0.0" iyy="0.1" iyz="0.0" izz="0.1"/>
    </inertial>
    <!-- 視覚・表示の設定 -->
    <visual>
      <origin rpy="0 -1.5707963267948966 0" xyz="0 0 -0.045"/>
      <geometry>
        <mesh filename="package://dual_leg_controller/model/meshes/link1_1.stl" scale="0.001 0.001 0.001"/>
      </geometry>
      <material name="steel_satin"/>
    </visual>
    <!-- 衝突検出形状 (物理シミュレーション用)の設定 -->
    <collision>
      <origin rpy="0 -1.5707963267948966 0" xyz="0 0 -0.045"/>
      <geometry>
        <mesh filename="package://dual_leg_controller/model/meshes/link1_1.stl" scale="0.001 0.001 0.001"/>
      </geometry>
    </collision>
  </link>
  <!-- femur_motor と tibia_motor をつなぐリンク(leg_fumer)の定義  -->
  <link name="limb4_link4">
    <inertial>
      <mass value="0.125"/>
      <inertia ixx="0.1" ixy="0.0" ixz="0.0" iyy="0.1" iyz="0.0" izz="0.1"/>
    </inertial>
    <visual>
      <origin rpy="0 3.141592653589793 -1.5707963267948966" xyz="0.05 -0.055 0"/>
      <geometry>
        <mesh filename="package://dual_leg_controller/model/meshes/link2_1.stl" scale="0.001 0.001 0.001"/>
      </geometry>
      <material name="steel_satin"/>
    </visual>
    <collision>
      <origin rpy="0 3.141592653589793 -1.5707963267948966" xyz="0.05 -0.055 0"/>
      <geometry>
        <mesh filename="package://dual_leg_controller/model/meshes/link2_1.stl" scale="0.001 0.001 0.001"/>
      </geometry>
    </collision>
  </link>
  <link name="limb4_link6">
    <inertial>
      <origin rpy="0 0 0" xyz="0 0 0"/>
      <mass value="0.125"/>
      <inertia ixx="0.1" ixy="0.0" ixz="0.0" iyy="0.1" iyz="0.0" izz="0.1"/>
    </inertial>
    <visual>
      <origin rpy="3.141592653589793 0 3.141592653589793" xyz="0.055 0.038 0"/>
      <geometry>
        <mesh filename="package://dual_leg_controller/model/meshes/link3_1.stl" scale="0.001 0.001 0.001"/>
      </geometry>
      <material name="steel_satin"/>
    </visual>
    <collision>
      <origin rpy="3.141592653589793 0 3.141592653589793" xyz="0.055 0.038 0"/>
      <geometry>
        <mesh filename="package://dual_leg_controller/model/meshes/link3_1.stl" scale="0.001 0.001 0.001"/>
      </geometry>
    </collision>
    <!-- 座標系確認用の軸表示を追加 -->
    <visual name="debug_x_axis">
      <origin rpy="0 1.5707963267948966 0" xyz="0.02 0 0"/>
      <geometry>
        <cylinder length="0.04" radius="0.002"/>
      </geometry>
      <material name="debug_red">
        <color rgba="1.0 0.0 0.0 1.0"/>
      </material>
    </visual>
    <visual name="debug_y_axis">
      <origin rpy="1.5707963267948966 0 0" xyz="0 0.02 0"/>
      <geometry>
        <cylinder length="0.04" radius="0.002"/>
      </geometry>
      <material name="debug_green">
        <color rgba="0.0 1.0 0.0 1.0"/>
      </material>
    </visual>
    <visual name="debug_z_axis">
      <origin rpy="0 0 0" xyz="0 0 0.02"/>
      <geometry>
        <cylinder length="0.04" radius="0.002"/>
      </geometry>
      <material name="debug_blue">
        <color rgba="0.0 0.0 1.0 1.0"/>
      </material>
    </visual>
  </link>
  <!-- 脚先（foot_tip）を示す非常に小さなリンク -->
  <link name="limb4_foot_tip">
    <inertial>
      <origin rpy="0 0 0" xyz="0 0 0"/>
      <mass value="0.0001"/>
      <inertia ixx="0.00001" ixy="0.0" ixz="0.0" iyy="0.00001" iyz="0.0" izz="0.00001"/>
    </inertial>
    <!-- X軸（前方向）- 赤色 -->
    <visual name="x_axis">
      <origin rpy="0 1.5707963267948966 0" xyz="0.01 0 0"/>
      <geometry>
        <cylinder length="0.02" radius="0.001"/>
      </geometry>
      <material name="red">
        <color rgba="1.0 0.0 0.0 1.0"/>
      </material>
    </visual>
    <!-- Y軸（右方向）- 緑色 -->
    <visual name="y_axis">
      <origin rpy="1.5707963267948966 0 0" xyz="0 0.01 0"/>
      <geometry>
        <cylinder length="0.02" radius="0.001"/>
      </geometry>
      <material name="green">
        <color rgba="0.0 1.0 0.0 1.0"/>
      </material>
    </visual>
    <!-- Z軸（上方向）- 青色 -->
    <visual name="z_axis">
      <origin rpy="0 0 0" xyz="0 0 0.01"/>
      <geometry>
        <cylinder length="0.02" radius="0.001"/>
      </geometry>
      <material name="blue">
        <color rgba="0.0 0.0 1.0 1.0"/>
      </material>
    </visual>
    <!-- 座標原点 - 白色 -->
    <visual name="origin">
      <origin rpy="0 0 0" xyz="0 0 0"/>
      <geometry>
        <sphere radius="0.003"/>
      </geometry>
      <material name="white">
        <color rgba="1.0 1.0 1.0 1.0"/>
      </material>
    </visual>
  </link>
  <!--joint の定義-->
  <!-- base と motor を固定するジョイント -->
  <joint name="body_motor_fixedjoint_limb4" type="fixed">
    <origin rpy="0 3.141592653589793 8.901179185171081" xyz="-0.04750000000000004 -0.08227241335952165 -0.02"/>
    <parent link="body_link"/>
    <child link="motor4"/>
  </joint>
  <!-- motor と leg_coxa　をジョイント-->
  <joint name="limb4_joint1" type="continuous">
    <origin rpy="0 0 3.141592653589793" xyz="0 0 0.05"/>
    <parent link="motor4"/>
    <child link="limb4_link2"/>
    <axis xyz="0.0 0.0 1.0"/>
  </joint>
  <!-- leg_coxa と leg_fumer　をジョイント-->
  <joint name="limb4_joint2" type="continuous">
    <origin rpy="0 1.5707963267948966 0" xyz="0.0 -0.0145 0"/>
    <parent link="limb4_link2"/>
    <child link="limb4_link4"/>
    <axis xyz="0.0 -1.0 0.0"/>
  </joint>
  <!-- leg_fumer と leg_tibia　をジョイント-->
  <joint name="limb4_joint3" type="continuous">
    <origin rpy="0 0 0" xyz="-0.105 0.0 0"/>
    <parent link="limb4_link4"/>
    <child link="limb4_link6"/>
    <axis xyz="0.0 1.0 0.0"/>
  </joint>
  <!-- tibiaリンクと脚先を接続する固定ジョイント -->
  <joint name="limb4_foot_joint" type="fixed">
    <!-- tibiaのSTLモデルの先端までの距離を設定 -->
    <origin rpy="-1.5707963267948966 0 -1.5707963267948966" xyz="-0.103 0.0205 -0.00205"/>
    <parent link="limb4_link6"/>
    <child link="limb4_foot_tip"/>
  </joint>
  <!-- トランスミッション -->
  <transmission name="trans4_1">
    <type>transmission_interface/SimpleTransmission</type>
    <joint name="limb4_joint1">
      <hardwareInterface>hardware_interface/EffortJointInterface</hardwareInterface>
    </joint>
    <actuator name="motor4_1">
      <hardwareInterface>hardware_interface/EffortJointInterface</hardwareInterface>
      <mechanicalReduction>1</mechanicalReduction>
    </actuator>
  </transmission>
  <transmission name="trans4_2">
    <type>transmission_interface/SimpleTransmission</type>
    <joint name="limb4_joint2">
      <hardwareInterface>hardware_interface/EffortJointInterface</hardwareInterface>
    </joint>
    <actuator name="motor4_2">
      <hardwareInterface>hardware_interface/EffortJointInterface</hardwareInterface>
      <mechanicalReduction>1</mechanicalReduction>
    </actuator>
  </transmission>
  <transmission name="trans4_3">
    <type>transmission_interface/SimpleTransmission</type>
    <joint name="limb4_joint3">
      <hardwareInterface>hardware_interface/EffortJointInterface</hardwareInterface>
    </joint>
    <actuator name="motor4_3">
      <hardwareInterface>hardware_interface/EffortJointInterface</hardwareInterface>
      <mechanicalReduction>1</mechanicalReduction>
    </actuator>
  </transmission>
  <!-- モーターの設定 -->
  <link name="motor5">
    <!--  物理シミュレーションのための質量特性を定義 -->
    <inertial>
      <!-- 慣性フレームの位置と向き -->
      <origin rpy="0 0 0" xyz="0 0 0"/>
      <!-- 部品の質量（kg単位） -->
      <mass value="0.125"/>
      <!--  慣性テンソル（物体の回転に対する抵抗を定義する行列） -->
      <!-- ixx, iyy, izz - 各軸周りの慣性モーメント -->
      <!-- ixy, iyz, ixz - 慣性乗積（オフ対角成分） -->
      <inertia ixx="0.1" ixy="0.0" ixz="0.0" iyy="0.1" iyz="0.0" izz="0.1"/>
    </inertial>
    <!-- 視覚・表示の設定 -->
    <visual>
      <!-- 表示モデルの位置と向き -->
      <origin rpy="0 0 0" xyz="0 0.005 0"/>
      <!--  形状を定義 -->
      <geometry>
        <mesh filename="package://dual_leg_controller/model/meshes/motor.stl" scale="0.001 0.001 0.001"/>
      </geometry>
      <material name="steel_satin"/>
    </visual>
    <!-- 衝突検出形状 (物理シミュレーション用)の設定 -->
    <collision>
      <!-- 衝突モデルの位置と向き -->
      <origin rpy="0 0 0" xyz="0 0.005 0"/>
      <!--  形状を定義 -->
      <geometry>
        <mesh filename="package://dual_leg_controller/model/meshes/motor.stl" scale="0.001 0.001 0.001"/>
      </geometry>
    </collision>
  </link>
  <!-- coxa_motor と femur_motor をつなぐリンク(leg_coxa)の定義  -->
  <link name="limb5_link2">
    <!--  物理シミュレーションのための質量特性を定義 -->
    <inertial>
      <origin rpy="0 0 0" xyz="0 0 0"/>
      <mass value="0.125"/>
      <inertia ixx="0.1" ixy="0.0" ixz="0.0" iyy="0.1" iyz="0.0" izz="0.1"/>
    </inertial>
    <!-- 視覚・表示の設定 -->
    <visual>
      <origin rpy="0 -1.5707963267948966 0" xyz="0 0 -0.045"/>
      <geometry>
        <mesh filename="package://dual_leg_controller/model/meshes/link1_1.stl" scale="0.001 0.001 0.001"/>
      </geometry>
      <material name="steel_satin"/>
    </visual>
    <!-- 衝突検出形状 (物理シミュレーション用)の設定 -->
    <collision>
      <origin rpy="0 -1.5707963267948966 0" xyz="0 0 -0.045"/>
      <geometry>
        <mesh filename="package://dual_leg_controller/model/meshes/link1_1.stl" scale="0.001 0.001 0.001"/>
      </geometry>
    </collision>
  </link>
  <!-- femur_motor と tibia_motor をつなぐリンク(leg_fumer)の定義  -->
  <link name="limb5_link4">
    <inertial>
      <mass value="0.125"/>
      <inertia ixx="0.1" ixy="0.0" ixz="0.0" iyy="0.1" iyz="0.0" izz="0.1"/>
    </inertial>
    <visual>
      <origin rpy="0 3.141592653589793 -1.5707963267948966" xyz="0.05 -0.055 0"/>
      <geometry>
        <mesh filename="package://dual_leg_controller/model/meshes/link2_1.stl" scale="0.001 0.001 0.001"/>
      </geometry>
      <material name="steel_satin"/>
    </visual>
    <collision>
      <origin rpy="0 3.141592653589793 -1.5707963267948966" xyz="0.05 -0.055 0"/>
      <geometry>
        <mesh filename="package://dual_leg_controller/model/meshes/link2_1.stl" scale="0.001 0.001 0.001"/>
      </geometry>
    </collision>
  </link>
  <link name="limb5_link6">
    <inertial>
      <origin rpy="0 0 0" xyz="0 0 0"/>
      <mass value="0.125"/>
      <inertia ixx="0.1" ixy="0.0" ixz="0.0" iyy="0.1" iyz="0.0" izz="0.1"/>
    </inertial>
    <visual>
      <origin rpy="3.141592653589793 0 3.141592653589793" xyz="0.055 0.038 0"/>
      <geometry>
        <mesh filename="package://dual_leg_controller/model/meshes/link3_1.stl" scale="0.001 0.001 0.001"/>
      </geometry>
      <material name="steel_satin"/>
    </visual>
    <collision>
      <origin rpy="3.141592653589793 0 3.141592653589793" xyz="0.055 0.038 0"/>
      <geometry>
        <mesh filename="package://dual_leg_controller/model/meshes/link3_1.stl" scale="0.001 0.001 0.001"/>
      </geometry>
    </collision>
    <!-- 座標系確認用の軸表示を追加 -->
    <visual name="debug_x_axis">
      <origin rpy="0 1.5707963267948966 0" xyz="0.02 0 0"/>
      <geometry>
        <cylinder length="0.04" radius="0.002"/>
      </geometry>
      <material name="debug_red">
        <color rgba="1.0 0.0 0.0 1.0"/>
      </material>
    </visual>
    <visual name="debug_y_axis">
      <origin rpy="1.5707963267948966 0 0" xyz="0 0.02 0"/>
      <geometry>
        <cylinder length="0.04" radius="0.002"/>
      </geometry>
      <material name="debug_green">
        <color rgba="0.0 1.0 0.0 1.0"/>
      </material>
    </visual>
    <visual name="debug_z_axis">
      <origin rpy="0 0 0" xyz="0 0 0.02"/>
      <geometry>
        <cylinder length="0.04" radius="0.002"/>
      </geometry>
      <material name="debug_blue">
        <color rgba="0.0 0.0 1.0 1.0"/>
      </material>
    </visual>
  </link>
  <!-- 脚先（foot_tip）を示す非常に小さなリンク -->
  <link name="limb5_foot_tip">
    <inertial>
      <origin rpy="0 0 0" xyz="0 0 0"/>
      <mass value="0.0001"/>
      <inertia ixx="0.00001" ixy="0.0" ixz="0.0" iyy="0.00001" iyz="0.0" izz="0.00001"/>
    </inertial>
    <!-- X軸（前方向）- 赤色 -->
    <visual name="x_axis">
      <origin rpy="0 1.5707963267948966 0" xyz="0.01 0 0"/>
      <geometry>
        <cylinder length="0.02" radius="0.001"/>
      </geometry>
      <material name="red">
        <color rgba="1.0 0.0 0.0 1.0"/>
      </material>
    </visual>
    <!-- Y軸（右方向）- 緑色 -->
    <visual name="y_axis">
      <origin rpy="1.5707963267948966 0 0" xyz="0 0.01 0"/>
      <geometry>
        <cylinder length="0.02" radius="0.001"/>
      </geometry>
      <material name="green">
        <color rgba="0.0 1.0 0.0 1.0"/>
      </material>
    </visual>
    <!-- Z軸（上方向）- 青色 -->
    <visual name="z_axis">
      <origin rpy="0 0 0" xyz="0 0 0.01"/>
      <geometry>
        <cylinder length="0.02" radius="0.001"/>
      </geometry>
      <material name="blue">
        <color rgba="0.0 0.0 1.0 1.0"/>
      </material>
    </visual>
    <!-- 座標原点 - 白色 -->
    <visual name="origin">
      <origin rpy="0 0 0" xyz="0 0 0"/>
      <geometry>
        <sphere radius="0.003"/>
      </geometry>
      <material name="white">
        <color rgba="1.0 1.0 1.0 1.0"/>
      </material>
    </visual>
  </link>
  <!--joint の定義-->
  <!-- base と motor を固定するジョイント -->
  <joint name="body_motor_fixedjoint_limb5" type="fixed">
    <origin rpy="0 3.141592653589793 9.948376736367678" xyz="0.047500000000000014 -0.08227241335952167 -0.02"/>
    <parent link="body_link"/>
    <child link="motor5"/>
  </joint>
  <!-- motor と leg_coxa　をジョイント-->
  <joint name="limb5_joint1" type="continuous">
    <origin rpy="0 0 3.141592653589793" xyz="0 0 0.05"/>
    <parent link="motor5"/>
    <child link="limb5_link2"/>
    <axis xyz="0.0 0.0 1.0"/>
  </joint>
  <!-- leg_coxa と leg_fumer　をジョイント-->
  <joint name="limb5_joint2" type="continuous">
    <origin rpy="0 1.5707963267948966 0" xyz="0.0 -0.0145 0"/>
    <parent link="limb5_link2"/>
    <child link="limb5_link4"/>
    <axis xyz="0.0 -1.0 0.0"/>
  </joint>
  <!-- leg_fumer と leg_tibia　をジョイント-->
  <joint name="limb5_joint3" type="continuous">
    <origin rpy="0 0 0" xyz="-0.105 0.0 0"/>
    <parent link="limb5_link4"/>
    <child link="limb5_link6"/>
    <axis xyz="0.0 1.0 0.0"/>
  </joint>
  <!-- tibiaリンクと脚先を接続する固定ジョイント -->
  <joint name="limb5_foot_joint" type="fixed">
    <!-- tibiaのSTLモデルの先端までの距離を設定 -->
    <origin rpy="-1.5707963267948966 0 -1.5707963267948966" xyz="-0.103 0.0205 -0.00205"/>
    <parent link="limb5_link6"/>
    <child link="limb5_foot_tip"/>
  </joint>
  <!-- トランスミッション -->
  <transmission name="trans5_1">
    <type>transmission_interface/SimpleTransmission</type>
    <joint name="limb5_joint1">
      <hardwareInterface>hardware_interface/EffortJointInterface</hardwareInterface>
    </joint>
    <actuator name="motor5_1">
      <hardwareInterface>hardware_interface/EffortJointInterface</hardwareInterface>
      <mechanicalReduction>1</mechanicalReduction>
    </actuator>
  </transmission>
  <transmission name="trans5_2">
    <type>transmission_interface/SimpleTransmission</type>
    <joint name="limb5_joint2">
      <hardwareInterface>hardware_interface/EffortJointInterface</hardwareInterface>
    </joint>
    <actuator name="motor5_2">
      <hardwareInterface>hardware_interface/EffortJointInterface</hardwareInterface>
      <mechanicalReduction>1</mechanicalReduction>
    </actuator>
  </transmission>
  <transmission name="trans5_3">
    <type>transmission_interface/SimpleTransmission</type>
    <joint name="limb5_joint3">
      <hardwareInterface>hardware_interface/EffortJointInterface</hardwareInterface>
    </joint>
    <actuator name="motor5_3">
      <hardwareInterface>hardware_interface/EffortJointInterface</hardwareInterface>
      <mechanicalReduction>1</mechanicalReduction>
    </actuator>
  </transmission>
  <gazebo>
    <plugin filename="libgazebo_ros_control.so" name="gazebo_ros_control">
      <robotNamespace>/multileg</robotNamespace>
    </plugin>
  </gazebo>
</robot>
